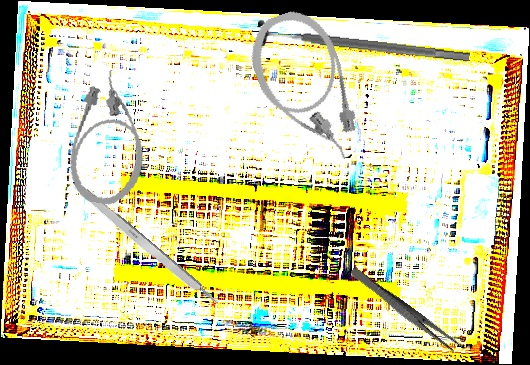Cannula: (239, 1, 372, 178), (63, 65, 158, 210)
Dressing Forceps: (347, 266, 461, 353)
Fixation Ring: (254, 17, 472, 75)
Scalpel Handle: (67, 178, 222, 311)
